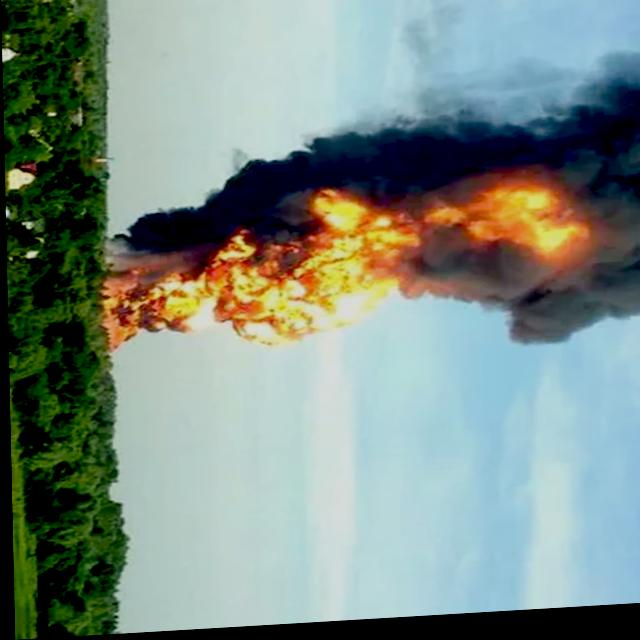Smoke: (107, 59, 640, 438)
